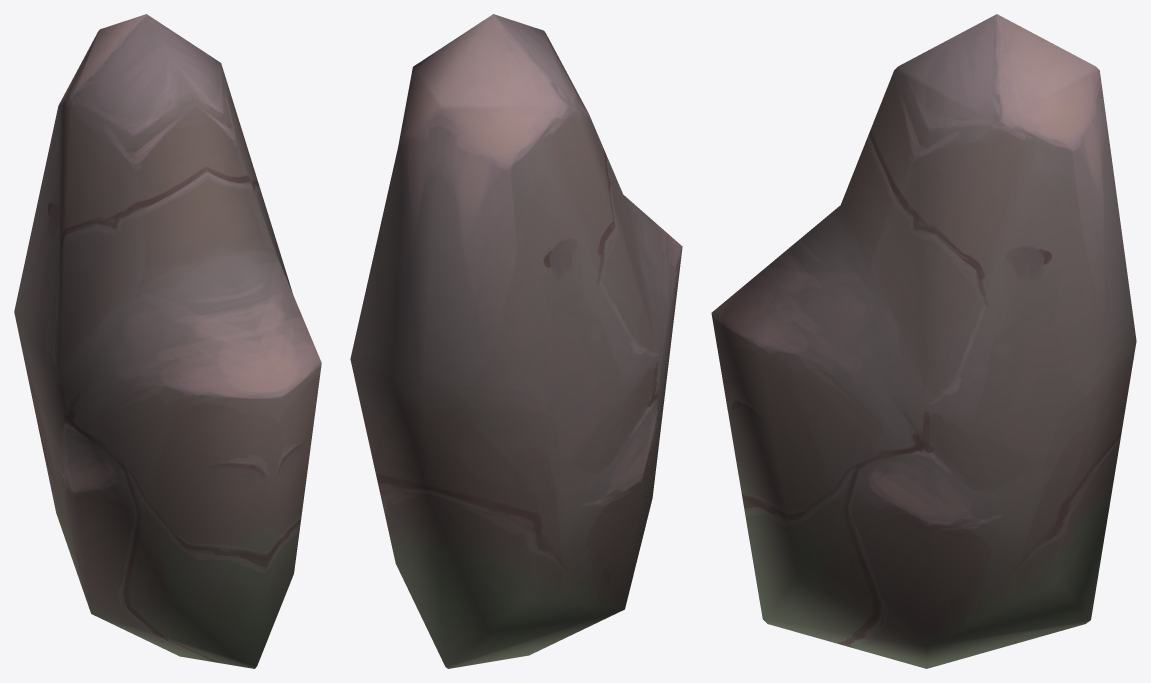
The model's file is Rock01.FBX.
3 views of the same model, side by side, from view 1: azimuth 30°, elevation 25°; view 2: azimuth 150°, elevation 25°; view 3: azimuth 270°, elevation 25° (orthographic). The views are drawn at different scales.
Visible parts, largest first — view 1: Rock1; view 2: Rock1; view 3: Rock1.
Boxes of the visible parts, bbox=[...] form: Rock1: bbox=[14, 14, 321, 668]; Rock1: bbox=[350, 14, 682, 668]; Rock1: bbox=[711, 14, 1136, 668].
Size of the model in its own units: 96.57 by 237 by 139.
1 material, 1 textured.
